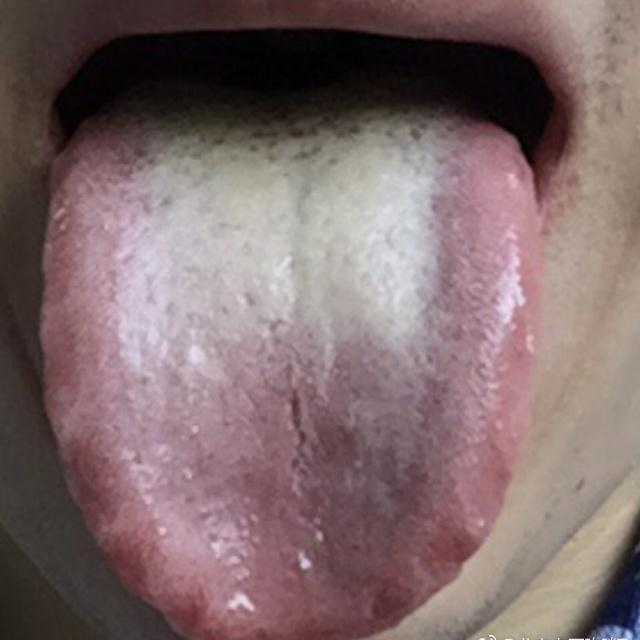baitaishe: (39, 104, 541, 640)
chihenshe: (41, 392, 186, 634)
liewenshe: (281, 388, 312, 484)
